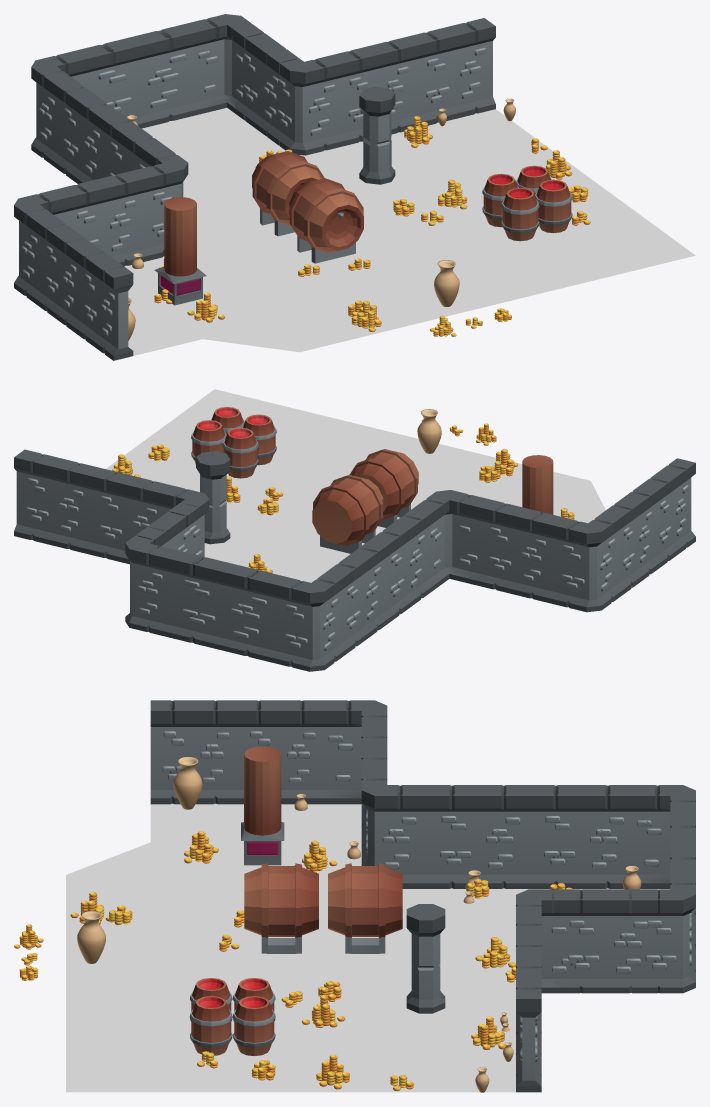
File: lvl0.glb
3 renders of one model, top to bottom at view 1: azimuth 30°, elevation 25°; view 2: azimuth 150°, elevation 25°; view 3: azimuth 270°, elevation 25°, orthographic. The views are drawn at different scales.
Parts seen in each view (by area): view 1: nav_floor_mesh.0, wall.006, wall.002, wall.001, Barrel.001, wall.003, wall_corner.005, wall.004, Barrel.0, wall_corner.004, wall.005, collumn.0 (+6 smaller); view 2: nav_floor_mesh.0, wall.006, wall.002, wall.003, Barrel.001, wall.001, wall.004, wall_corner.001, wall_corner.003, wall_corner.002, Barrel.0, wall_corner.004 (+6 smaller); view 3: nav_floor_mesh.0, wall.003, wall.001, Barrel.001, wall.005, wall_corner.004, wall_corner.002, Barrel.0, wall_corner.001, wall.006, collumn.0, wall_corner.003 (+7 smaller).
Part boxes in pixels (box(x1,y1,x2,y2)): nav_floor_mesh.0: box(124, 108, 695, 355); wall.006: box(330, 18, 495, 146); wall.002: box(73, 23, 199, 128); wall.001: box(37, 217, 133, 360); Barrel.001: box(252, 151, 363, 263); wall.003: box(54, 79, 164, 183); wall_corner.005: box(267, 49, 342, 155); wall.004: box(57, 170, 145, 266); Barrel.0: box(482, 165, 572, 241); wall_corner.004: box(188, 14, 263, 120); wall.005: box(232, 24, 298, 145); collumn.0: box(154, 197, 206, 305); nav_floor_mesh.0: box(106, 389, 605, 582); wall.006: box(14, 449, 170, 564); wall.002: box(165, 550, 284, 662); wall.003: box(327, 507, 433, 653); Barrel.001: box(312, 449, 418, 553); wall.001: box(605, 458, 695, 594); wall.004: box(476, 499, 560, 602); wall_corner.001: box(549, 511, 623, 612); wall_corner.003: box(272, 571, 346, 671); wall_corner.002: box(414, 490, 487, 590); Barrel.0: box(191, 407, 276, 478); wall_corner.004: box(125, 527, 175, 636); nav_floor_mesh.0: box(66, 803, 669, 1092); wall.003: box(426, 785, 633, 888); wall.001: box(150, 700, 323, 804); Barrel.001: box(244, 863, 402, 953); wall.005: box(554, 889, 657, 993); wall_corner.004: box(631, 874, 695, 993); wall_corner.002: box(361, 768, 425, 888); Barrel.0: box(189, 978, 275, 1055); wall_corner.001: box(323, 700, 387, 813); wall.006: box(516, 916, 541, 1092); collumn.0: box(241, 746, 284, 865); wall_corner.003: box(632, 785, 695, 888).
Size of the model in its own units: 27.72 by 4.83 by 26.52.
Materials: 7 (7 with a texture image).
